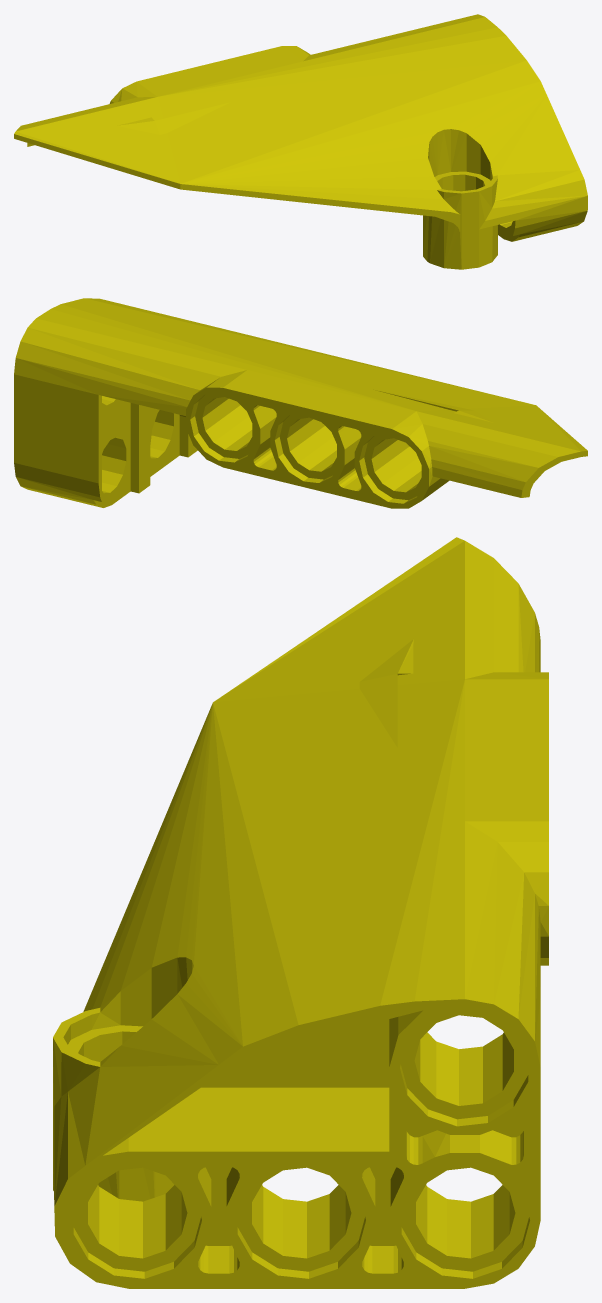
Rendered from Ye_6005195_AVV.fbx.
3 views of the same model, one above another, from view 1: azimuth 30°, elevation 25°; view 2: azimuth 150°, elevation 25°; view 3: azimuth 270°, elevation 25° (orthographic). The views are drawn at different scales.
Parts seen in each view (by area): view 1: Ye_6005195_AVV; view 2: Ye_6005195_AVV; view 3: Ye_6005195_AVV.
Boxes of the visible parts, <box> form: Ye_6005195_AVV: <box>14,14,587,269</box>; Ye_6005195_AVV: <box>14,298,587,508</box>; Ye_6005195_AVV: <box>53,537,548,1288</box>.
Size of the model in its own units: 5.2 by 1.56 by 2.36.
